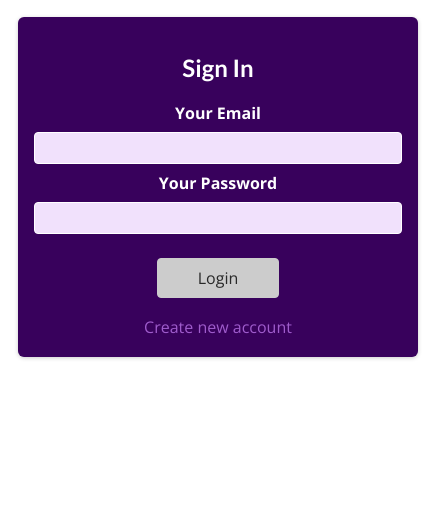
it: Login page › Sign Up form › renders Sign Up form if the button was clicked
Click the button "Create new account": (218, 327) [120,314,316,341]
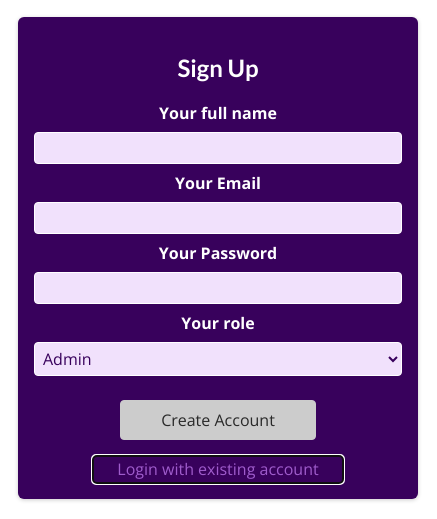
Result: the heading "Sign Up" is shown at [177,53,258,82]
